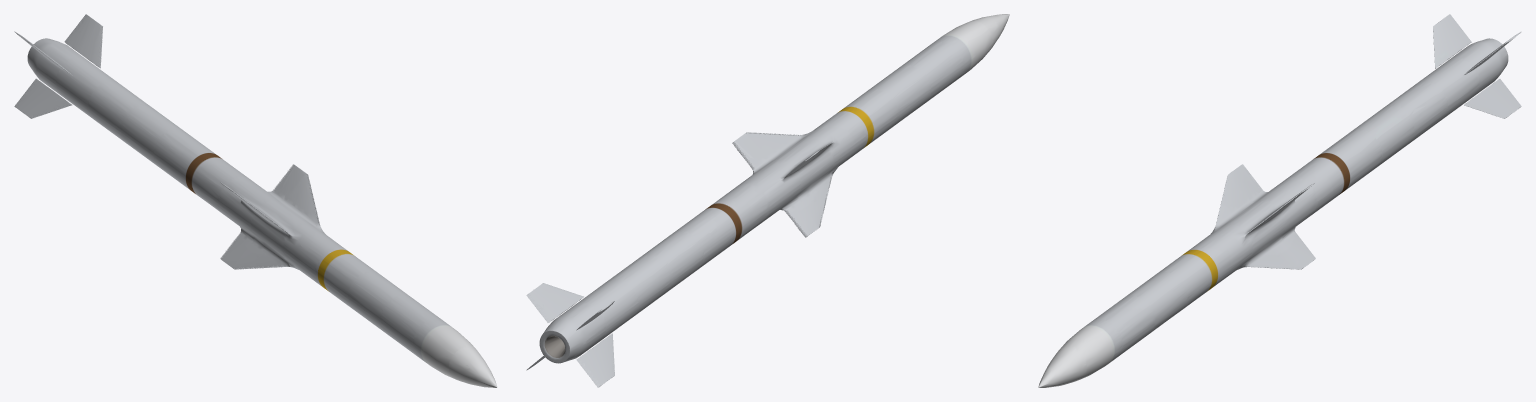
Rendered from aim120d.glb.
3 renders of one model, left to right at view 1: azimuth 30°, elevation 25°; view 2: azimuth 150°, elevation 25°; view 3: azimuth 330°, elevation 25°, orthographic.
Parts seen in each view (by area): view 1: airframe, fsim:fin:3899119507:1|elevator+aileron:-1+rudder:1@-20,20, fsim:fin:3419906077:1|elevator+aileron:1+rudder:1@-20,20; view 2: airframe, fsim:fin:3419906077:1|elevator+aileron:1+rudder:1@-20,20, fsim:fin:3899119507:1|elevator+aileron:-1+rudder:1@-20,20; view 3: airframe, fsim:fin:453677541:1|elevator+aileron:-1+rudder:-1@-20,20, fsim:fin:1916934482:1|elevator+aileron:1+rudder:-1@-20,20.
Part boxes in pixels (x1,y1,x2,y2): airframe: [27, 38, 497, 387]; fsim:fin:3899119507:1|elevator+aileron:-1+rudder:1@-20,20: [14, 78, 71, 118]; fsim:fin:3419906077:1|elevator+aileron:1+rudder:1@-20,20: [64, 14, 102, 68]; airframe: [539, 14, 1009, 363]; fsim:fin:3419906077:1|elevator+aileron:1+rudder:1@-20,20: [526, 283, 583, 322]; fsim:fin:3899119507:1|elevator+aileron:-1+rudder:1@-20,20: [576, 333, 614, 387]; airframe: [1038, 38, 1508, 387]; fsim:fin:453677541:1|elevator+aileron:-1+rudder:-1@-20,20: [1433, 14, 1471, 68]; fsim:fin:1916934482:1|elevator+aileron:1+rudder:-1@-20,20: [1464, 79, 1521, 118].
Size of the model in its own units: 0.3452 by 0.344 by 3.66.
3 materials, 1 textured.
